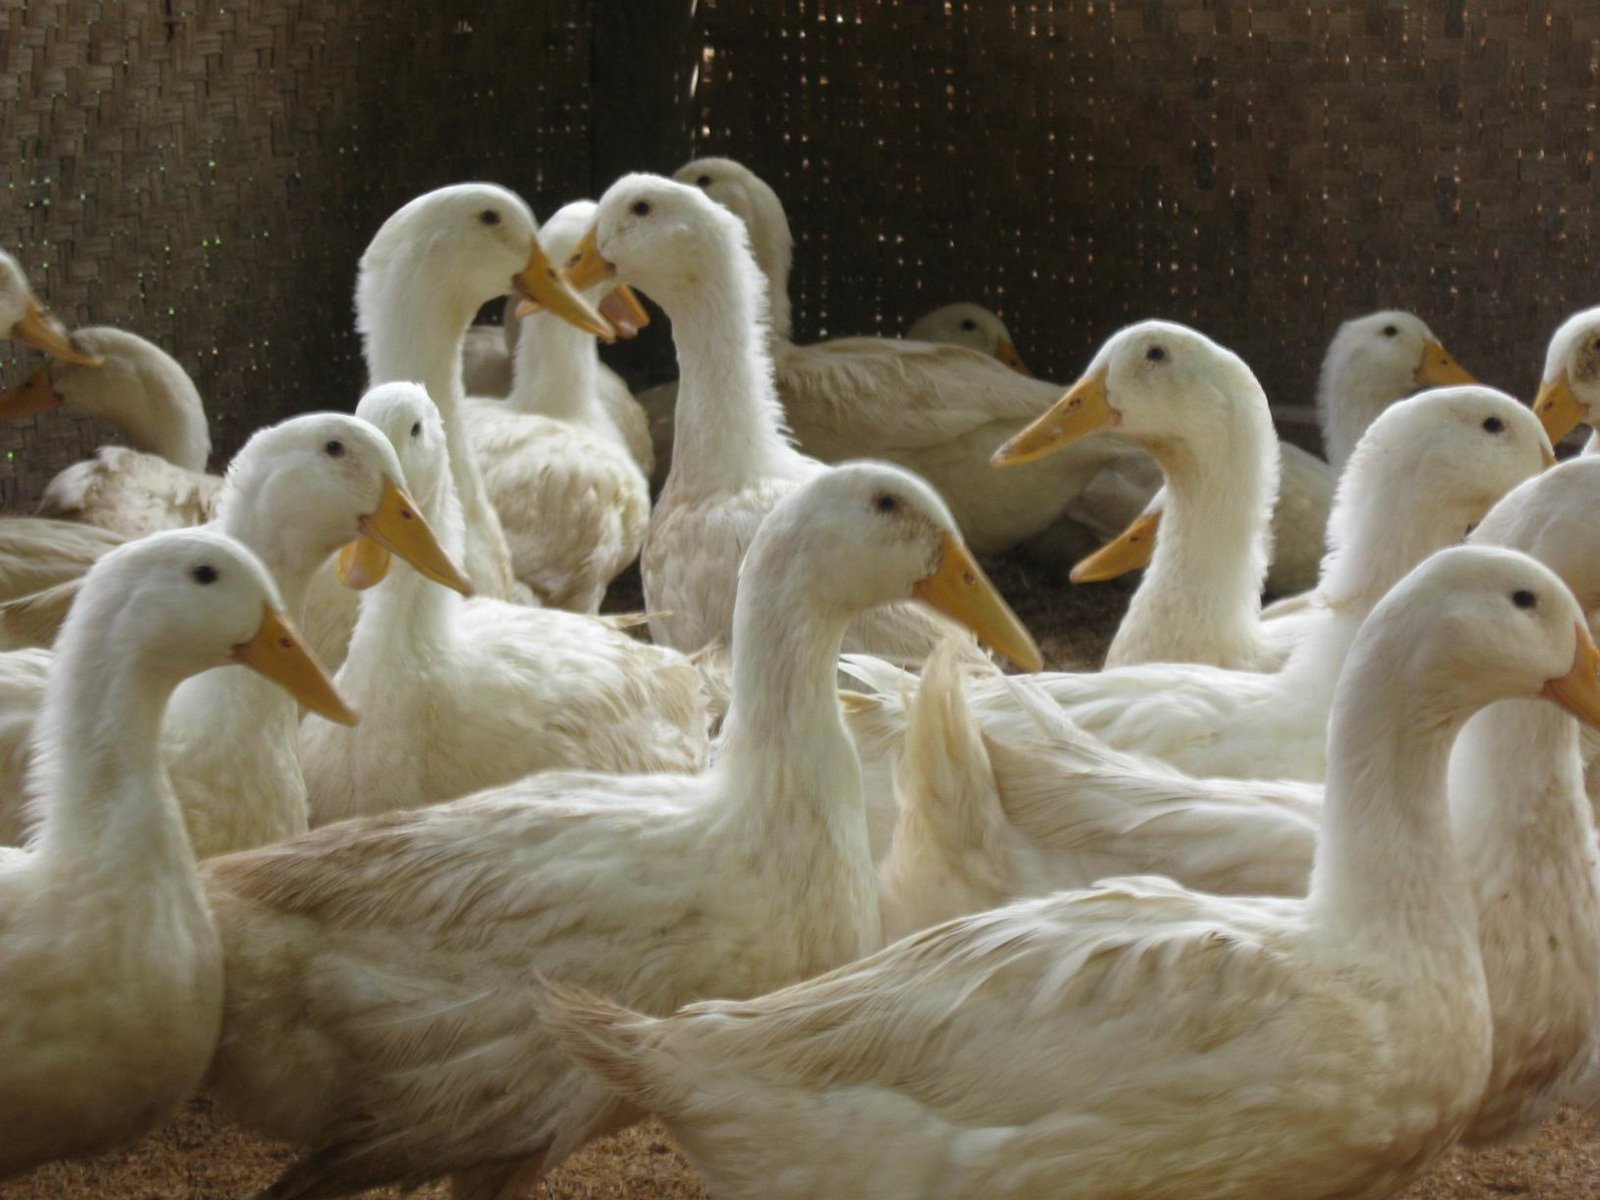Mencari Makan di Lumpur: (915, 529, 1049, 674), (226, 610, 365, 736), (974, 369, 1128, 470), (358, 478, 480, 603), (495, 234, 621, 349), (1067, 508, 1169, 587), (15, 287, 117, 366)
